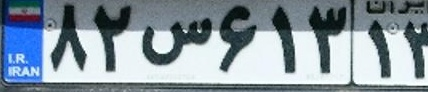character: (138, 1, 214, 78), (214, 1, 263, 76), (91, 1, 138, 77), (44, 1, 92, 74), (306, 2, 351, 79), (263, 1, 303, 76), (362, 16, 395, 82), (400, 16, 428, 82), (347, 76, 348, 78)
